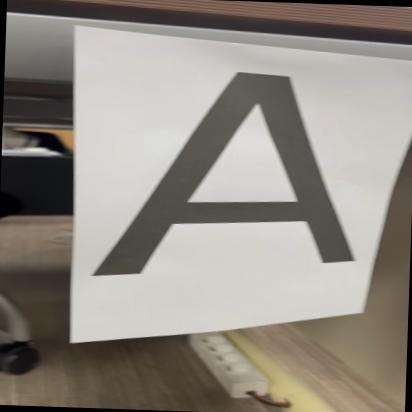seat: (88, 58, 368, 288)
